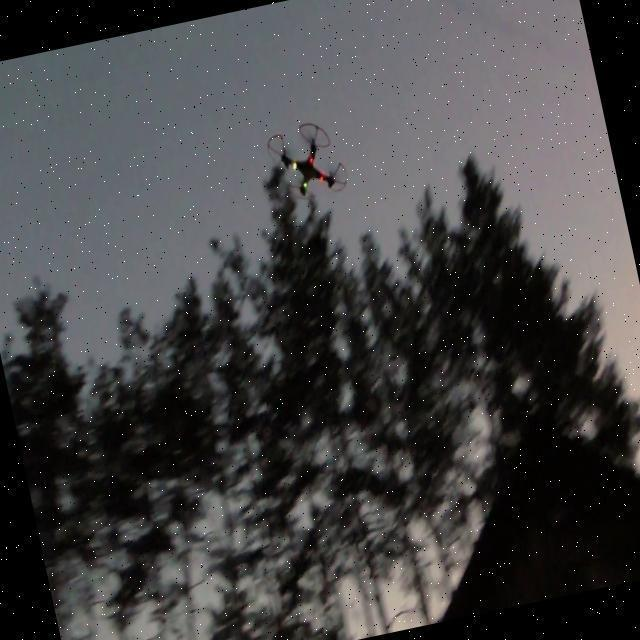Drons: (260, 112, 353, 210)
